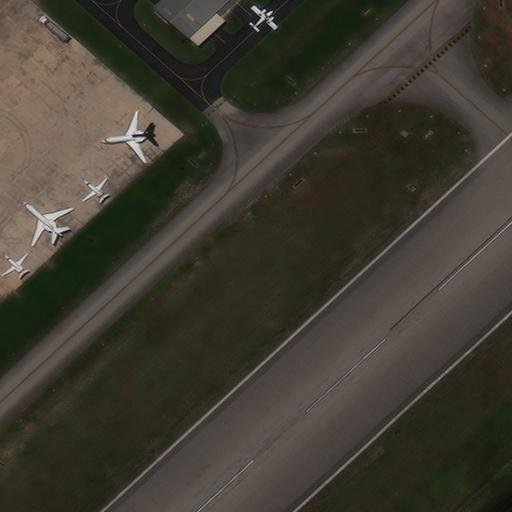Medium Civil Transport: (99, 110, 156, 163), (22, 200, 74, 246)
Small Civil Transport: (0, 252, 27, 276), (81, 177, 107, 201), (252, 5, 278, 28)
